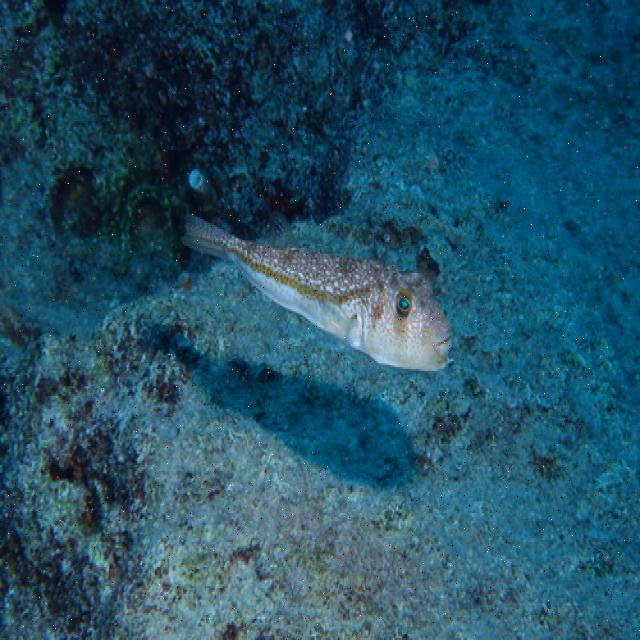Balik: (182, 216, 451, 370)
